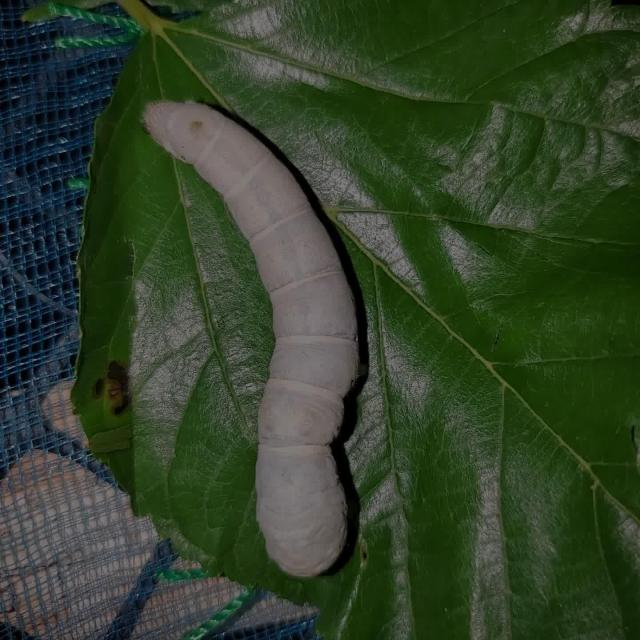Healthy: (128, 92, 376, 579)
